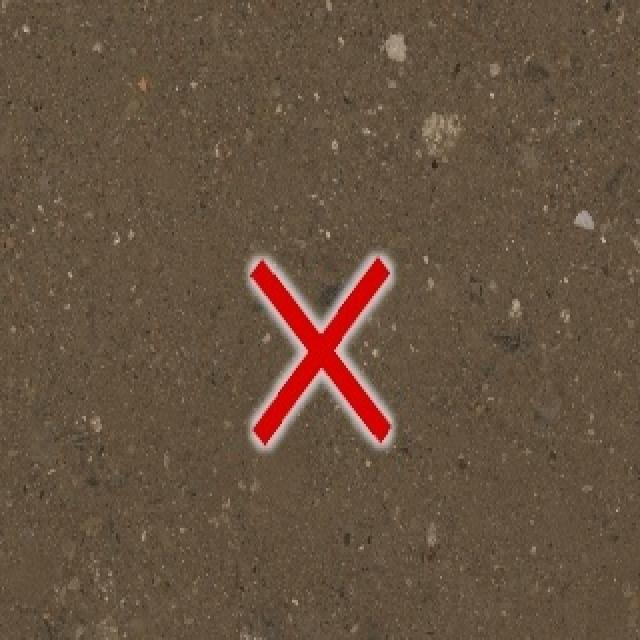x_marker: (251, 257, 389, 444)
